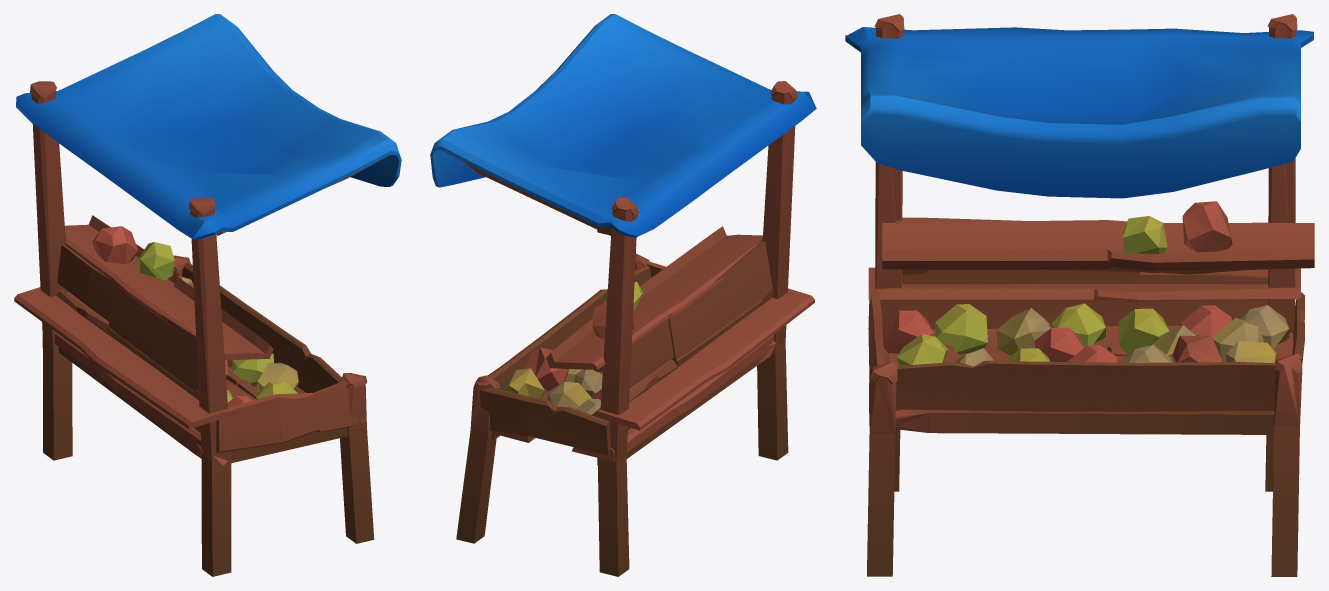
File: MarketStand_Blue.fbx
3 renders of one model, left to right at view 1: azimuth 30°, elevation 25°; view 2: azimuth 150°, elevation 25°; view 3: azimuth 270°, elevation 25°, orthographic. The views are drawn at different scales.
Visible parts, largest first — view 1: MarketStand_Blue; view 2: MarketStand_Blue; view 3: MarketStand_Blue.
Boxes of the visible parts, bbox=[...] form: MarketStand_Blue: bbox=[14, 14, 401, 576]; MarketStand_Blue: bbox=[430, 14, 816, 576]; MarketStand_Blue: bbox=[845, 14, 1314, 576].
Size of the model in its own units: 1.89 by 3.35 by 2.91.
